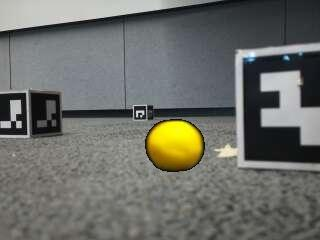lemon: (146, 121, 203, 172)
